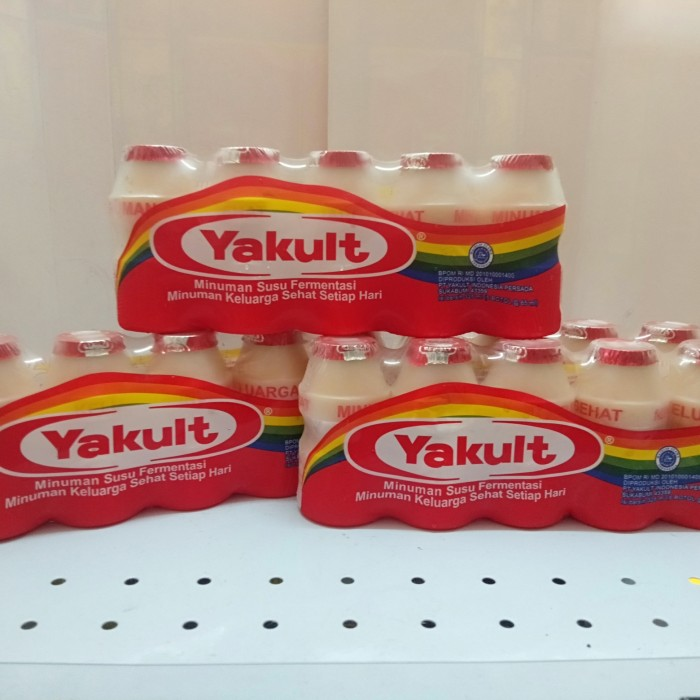Yakult (325ml): (100, 142, 572, 342), (305, 350, 691, 522), (0, 361, 315, 518), (135, 367, 157, 370)
